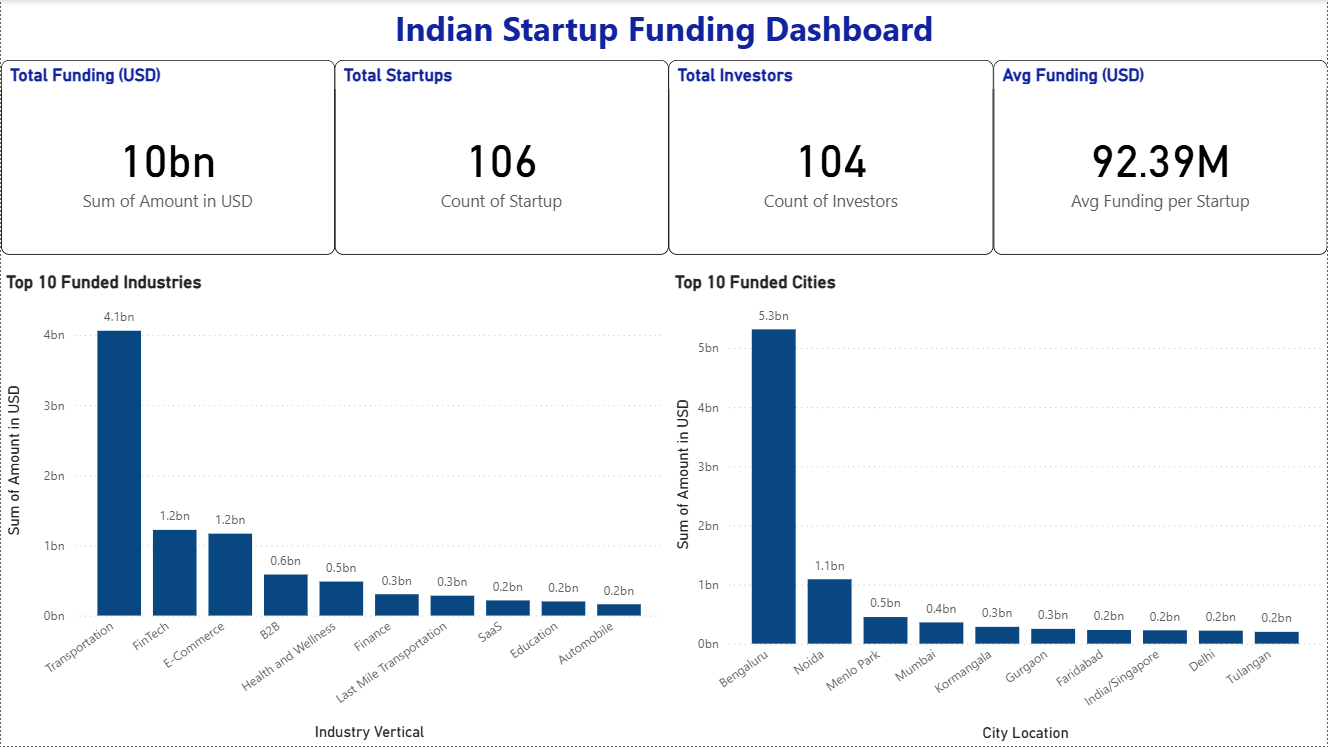

This screenshot's page, from the dashboard's own definition file:
{"tool":"powerbi","page":{"name":"Page 1","canvas":[1280,720],"ordinal":0},"visuals":[{"type":"textbox","box":[0,0,1280.3,78.2],"z":0},{"type":"card","title":"Total Funding (USD)","fields":{"Values":["Sheet1.Amount in USD"]},"box":[0,57.9,322.1,188.2],"z":1000},{"type":"card","title":"Total Startups","fields":{"Values":["Sheet1.Startup Name"]},"box":[322.1,57.9,322.1,188.2],"z":2000},{"type":"card","title":"Total Investors","fields":{"Values":["Sheet1.Investors Name"]},"box":[644.2,57.9,313.7,188.2],"z":3000},{"type":"card","title":"Avg Funding (USD)","fields":{"Values":["Sheet1.Avg Funding per Startup"]},"box":[957.9,57.9,322.1,188.2],"z":4000},{"type":"columnChart","title":"Top 10 Funded Industries","fields":{"Category":["Sheet1.Industry Vertical"],"Y":["Sheet1.Amount in USD"]},"box":[0,262.1,644.9,458.3],"z":5000},{"type":"columnChart","title":"Top 10 Funded Cities","fields":{"Category":["Sheet1.City  Location"],"Y":["Sheet1.Amount in USD"]},"box":[645.4,261.8,634.6,458.4],"z":6000}]}

Visuals, with their boxes in screenshot pixels (x1, y1, x2, y2), scaled from the page's 1280x720 canvas onto the 1328x747 screenshot:
textbox: Rect(0, 0, 1327, 81)
"Total Funding (USD)" card: Rect(0, 60, 334, 255)
"Total Startups" card: Rect(334, 60, 668, 255)
"Total Investors" card: Rect(668, 60, 994, 255)
"Avg Funding (USD)" card: Rect(994, 60, 1327, 255)
"Top 10 Funded Industries" columnChart: Rect(0, 272, 669, 746)
"Top 10 Funded Cities" columnChart: Rect(670, 272, 1327, 746)
